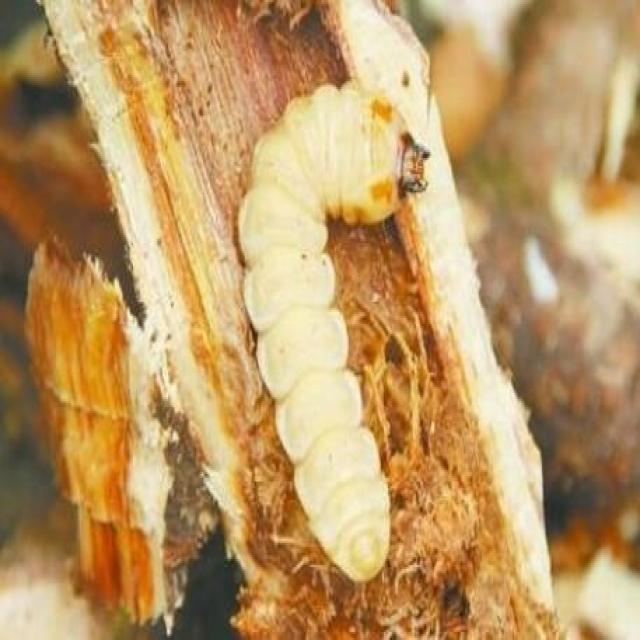peach borer: (232, 64, 439, 582)
